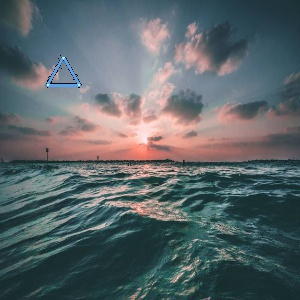triangle: (42, 53, 84, 93)
